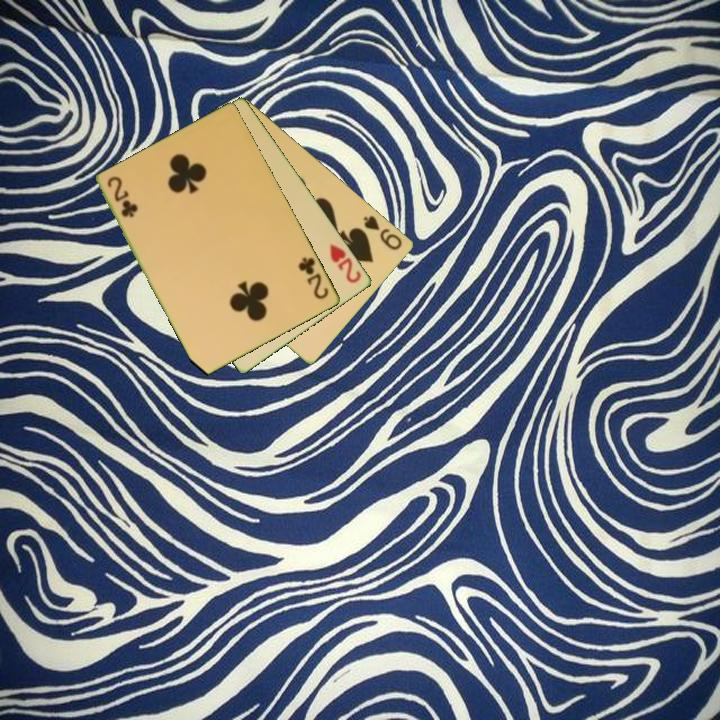2c: (295, 254, 332, 302), (104, 172, 139, 220)
2h: (326, 240, 365, 286)
9s: (360, 212, 405, 253)
